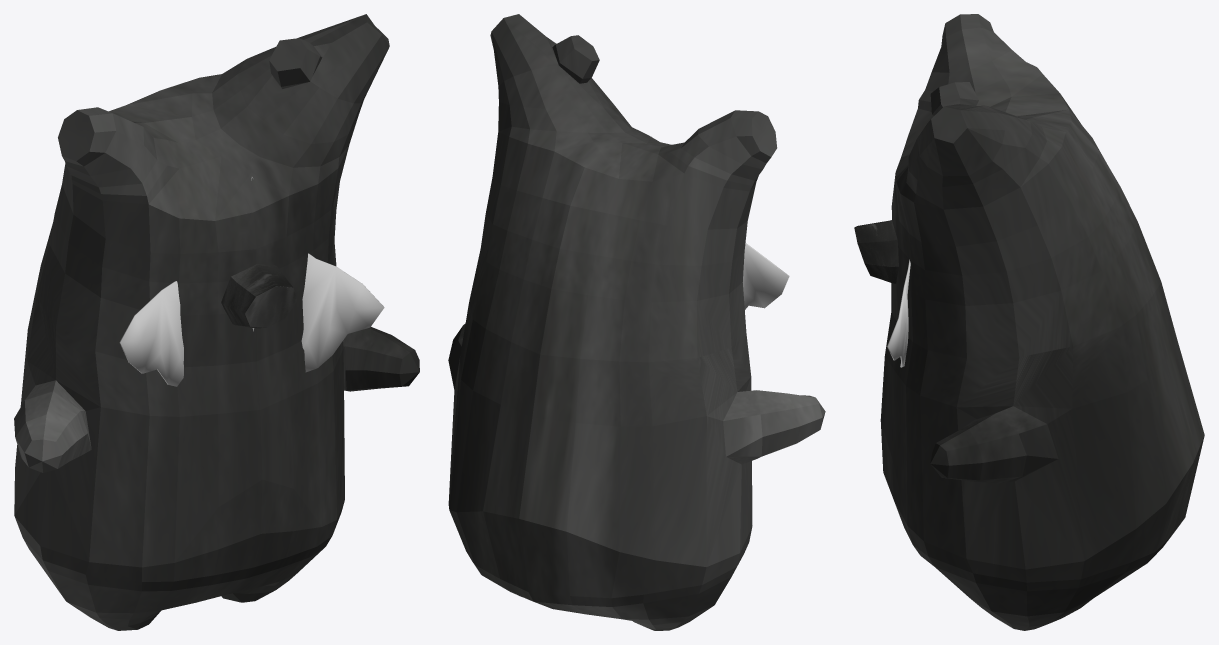
Rendered from frame_0008.obj.
The picture shows the model from 3 angles, left to right: view 1: azimuth 30°, elevation 25°; view 2: azimuth 150°, elevation 25°; view 3: azimuth 270°, elevation 25°; orthographic projection. The views are drawn at different scales.
Visible parts, largest first — view 1: korok, leaf, nose; view 2: korok, leaf; view 3: korok, nose, leaf.
Boxes of the visible parts, x1=… form: korok: x1=14, y1=14, x2=419, y2=630; leaf: x1=119, y1=177, x2=384, y2=386; nose: x1=221, y1=264, x2=296, y2=328; korok: x1=448, y1=14, x2=825, y2=630; leaf: x1=651, y1=136, x2=789, y2=309; korok: x1=880, y1=14, x2=1204, y2=630; nose: x1=854, y1=220, x2=898, y2=283; leaf: x1=887, y1=259, x2=910, y2=367.
Bounding box in the file's own units: 1.54 × 2.21 × 1.26.
